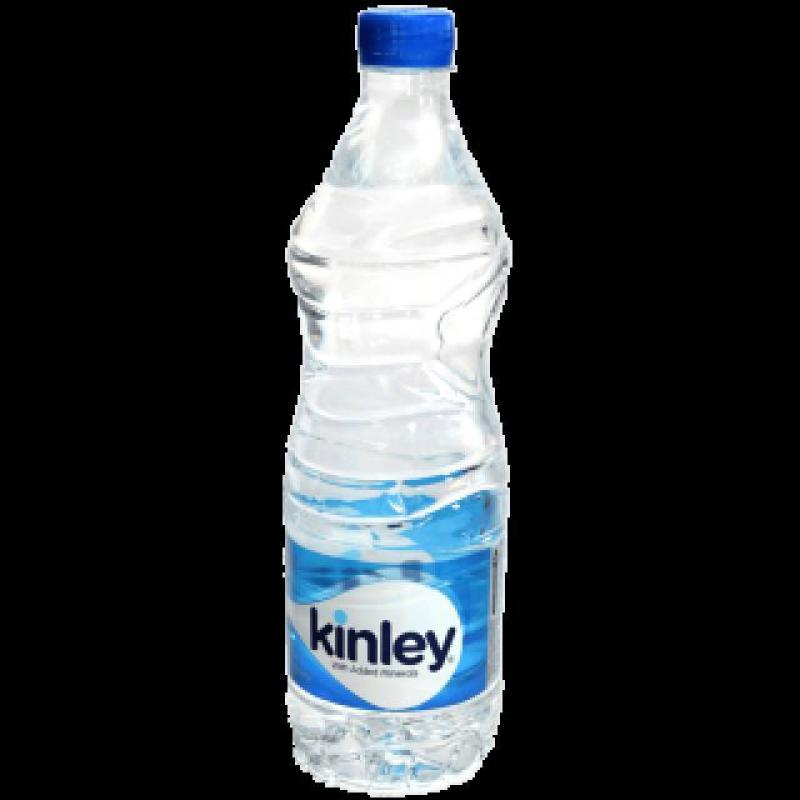botella: (278, 5, 514, 800)
